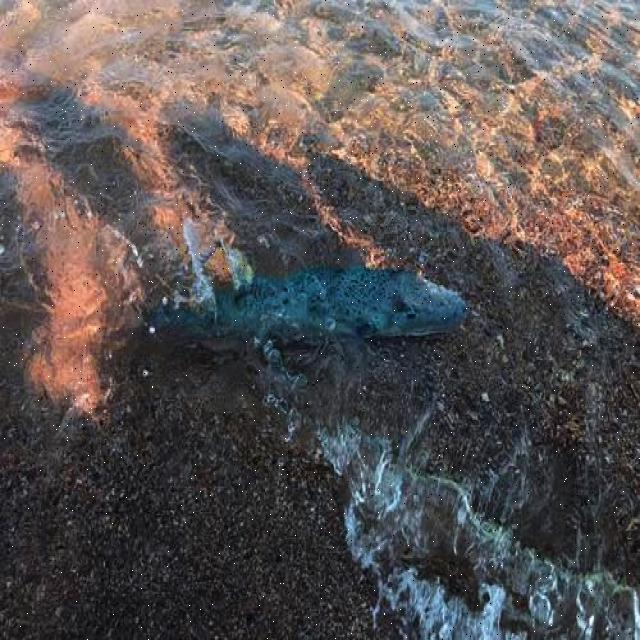Balik: (148, 268, 467, 341)
